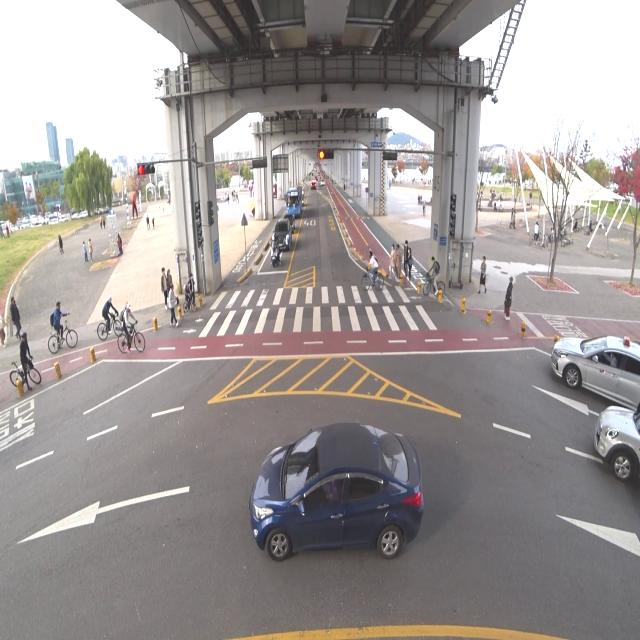Bus: (286, 181, 304, 219)
Car: (247, 422, 441, 581), (553, 321, 640, 406), (586, 391, 640, 522), (270, 216, 292, 255), (282, 209, 295, 234)
Motorcycle: (270, 231, 284, 269)
